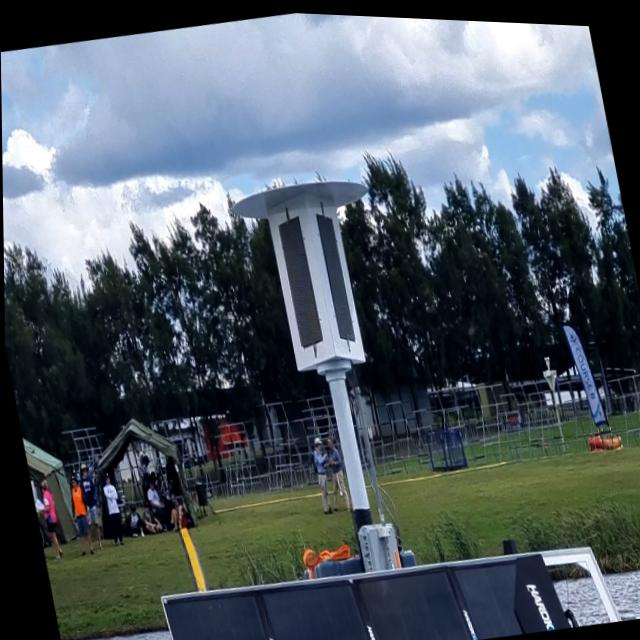led: (269, 205, 328, 352), (307, 196, 360, 354)
